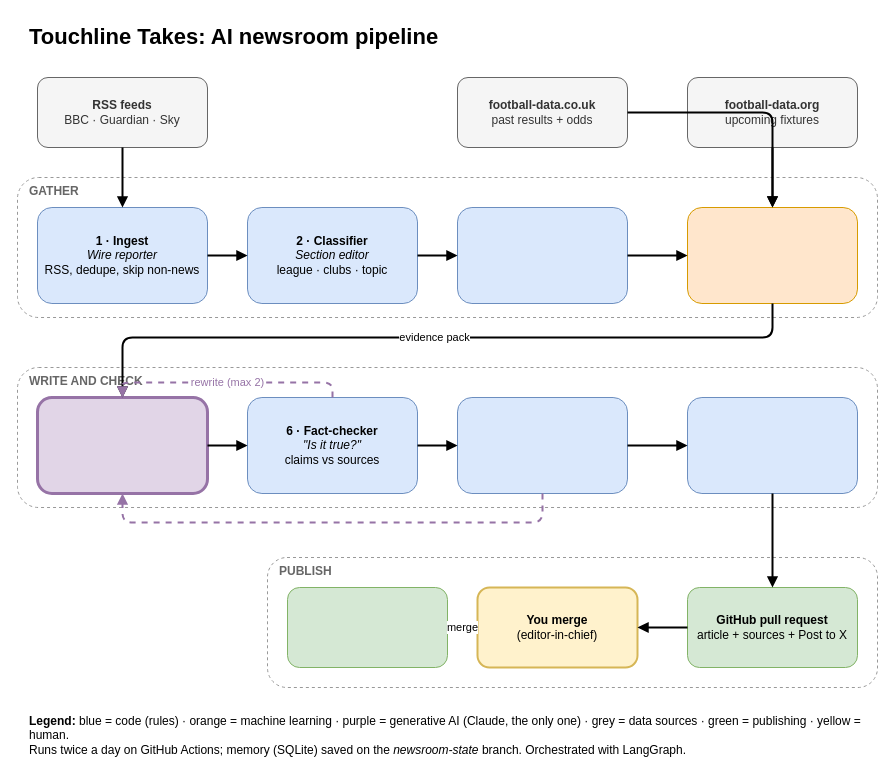
The diagram is 895 pixels wide and 784 high, and some of its shapes have lost their labels. The shapes that lost their labels are listed below. From the top down, each one's centre as x and y in pixels, then its label:
point 542,255: 3 · Research (RAG) Researcher TF-IDF + Chroma
point 772,255: 4 · Analyst Stats person scikit-learn W/D/L model
point 122,445: 5 · Writer Journalist Claude Haiku 5.5 cites evidence [S1]
point 542,445: 7 · Editor "Is it good?" style · headline · originality
point 772,445: 8 · Publisher Production desk final check, opens PR
point 367,627: Live site GitHub Actions → Pages
